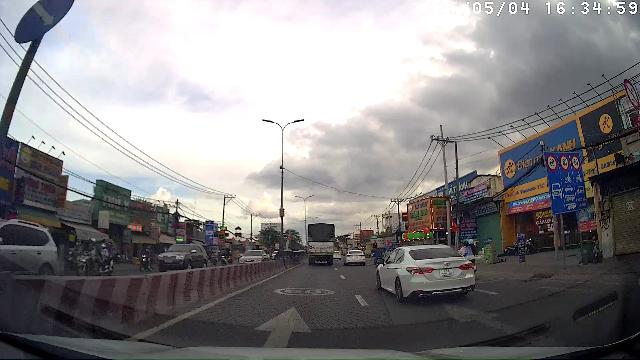127-toc-do-toi-da-60: (546, 154, 558, 172), (559, 154, 570, 172), (571, 154, 581, 171)
